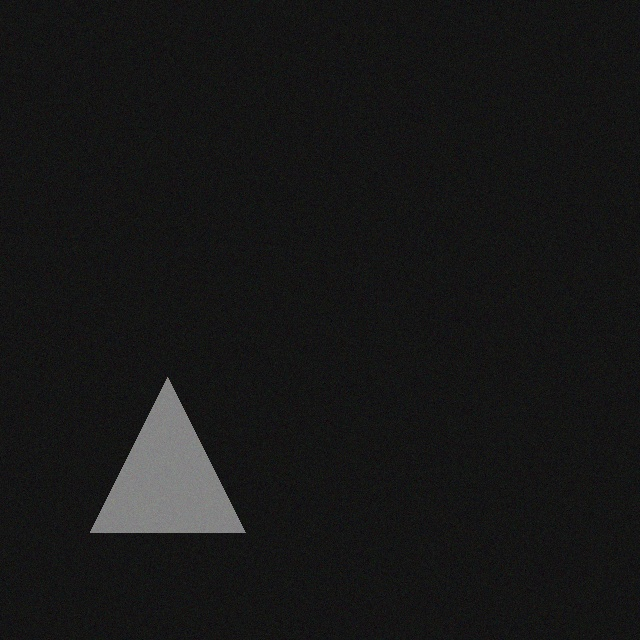triangle: (103, 387, 258, 542)
